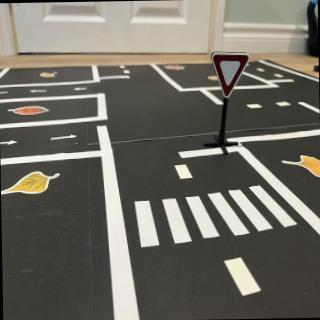road_crosswalk: (132, 177, 303, 254)
road_oneway: (48, 130, 79, 144), (1, 137, 20, 150), (72, 86, 92, 93), (30, 89, 51, 95)
sign_yield: (212, 52, 251, 99)
